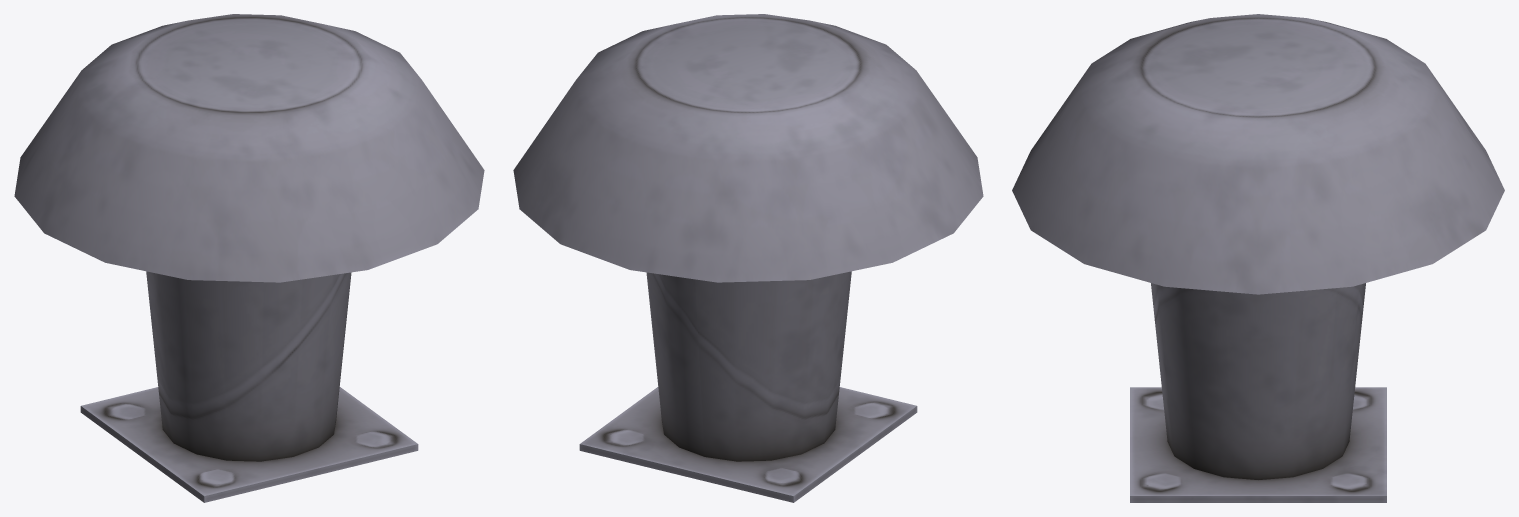
File: RoofVent01_2.FBX
The picture shows the model from 3 angles, left to right: view 1: azimuth 30°, elevation 25°; view 2: azimuth 150°, elevation 25°; view 3: azimuth 270°, elevation 25°; orthographic projection. The views are drawn at different scales.
Visible parts, largest first — view 1: RoofVent01_2; view 2: RoofVent01_2; view 3: RoofVent01_2.
Part boxes in pixels (<box>): RoofVent01_2: <box>14,14,484,502</box>; RoofVent01_2: <box>513,14,983,502</box>; RoofVent01_2: <box>1012,14,1504,502</box>.
Size of what is drawn, in the model's own units: 0.9595 by 0.8185 by 0.9595.
